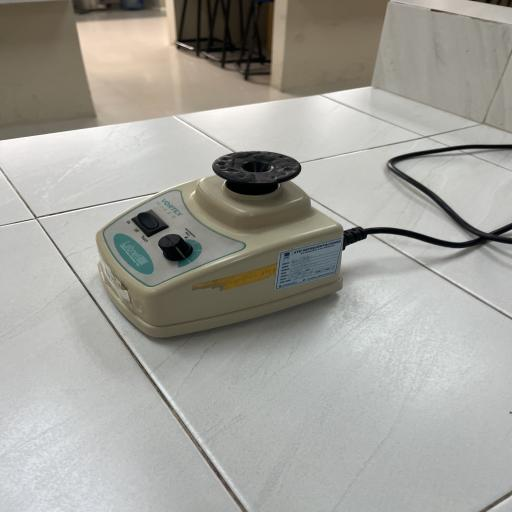Vortex_Mixer_LabNet: (79, 142, 354, 352)
